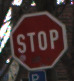stopsign: (10, 12, 67, 71)
